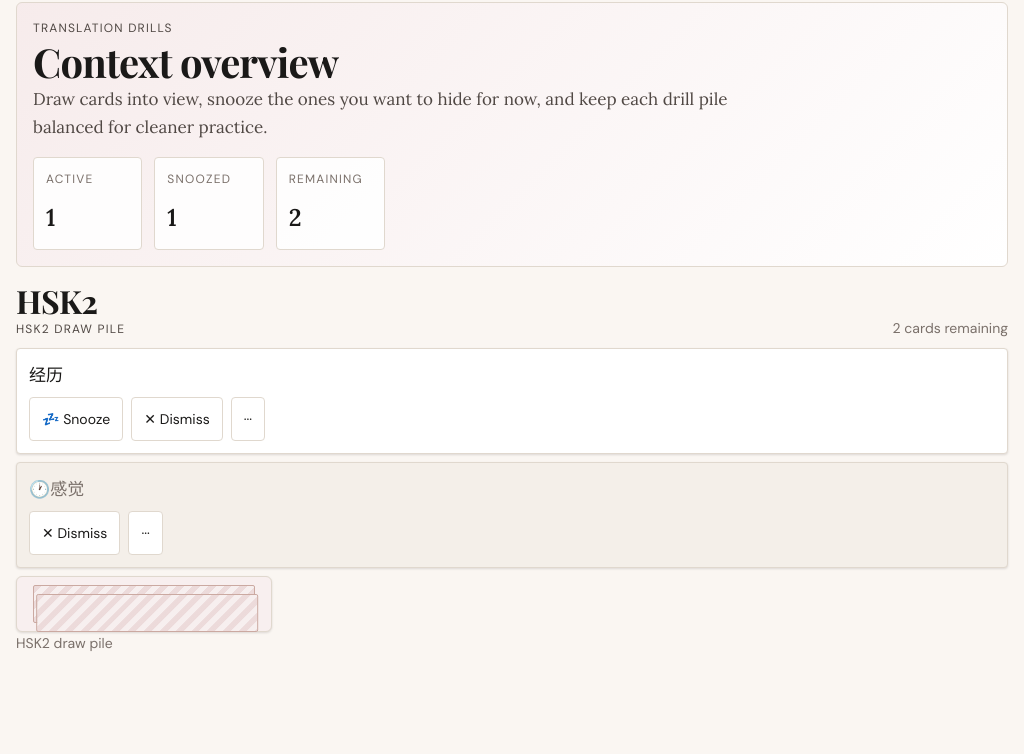
Test: TranslationDrillsHome › draws cards from a pile and updates the visible count
What coordinates should you click on to do the following:
click the button named "HSK2 draw pile — 2 cards remaining"
I would click on:
 (144, 604)
Its box is top-left (16, 576), bottom-right (272, 632).
(page scrolled)
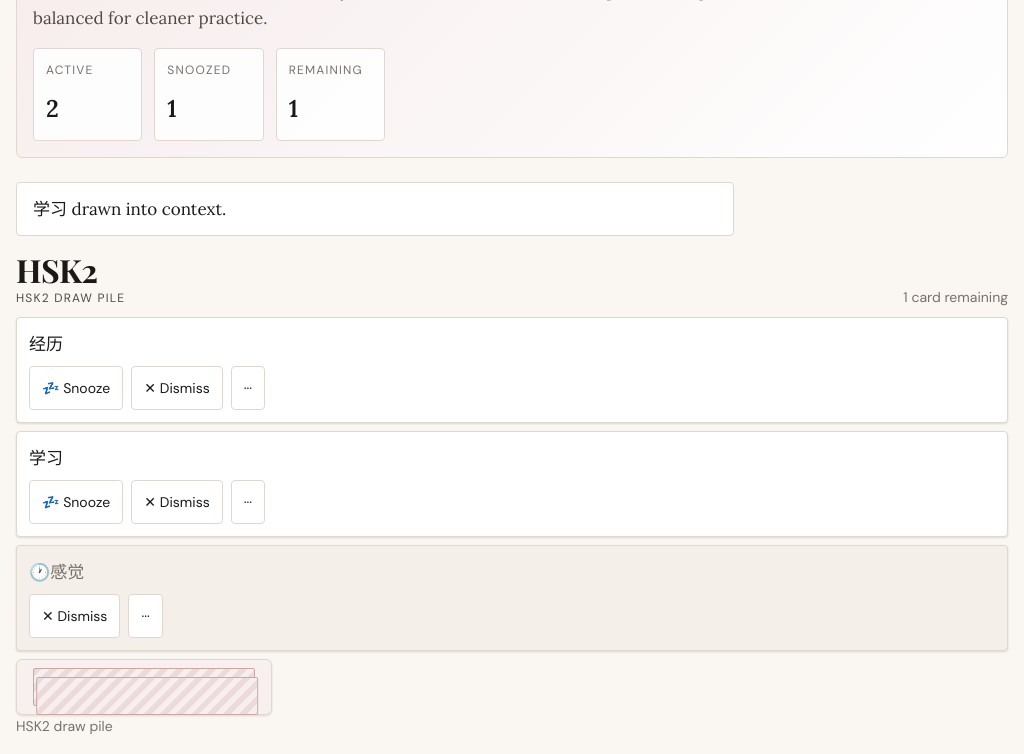
expect the text "学习" is shown: met, box top-left (29, 447), bottom-right (63, 469)
expect the button named "HSK2 draw pile — 1 card remaining" is shown: met, box top-left (16, 659), bottom-right (272, 715)
